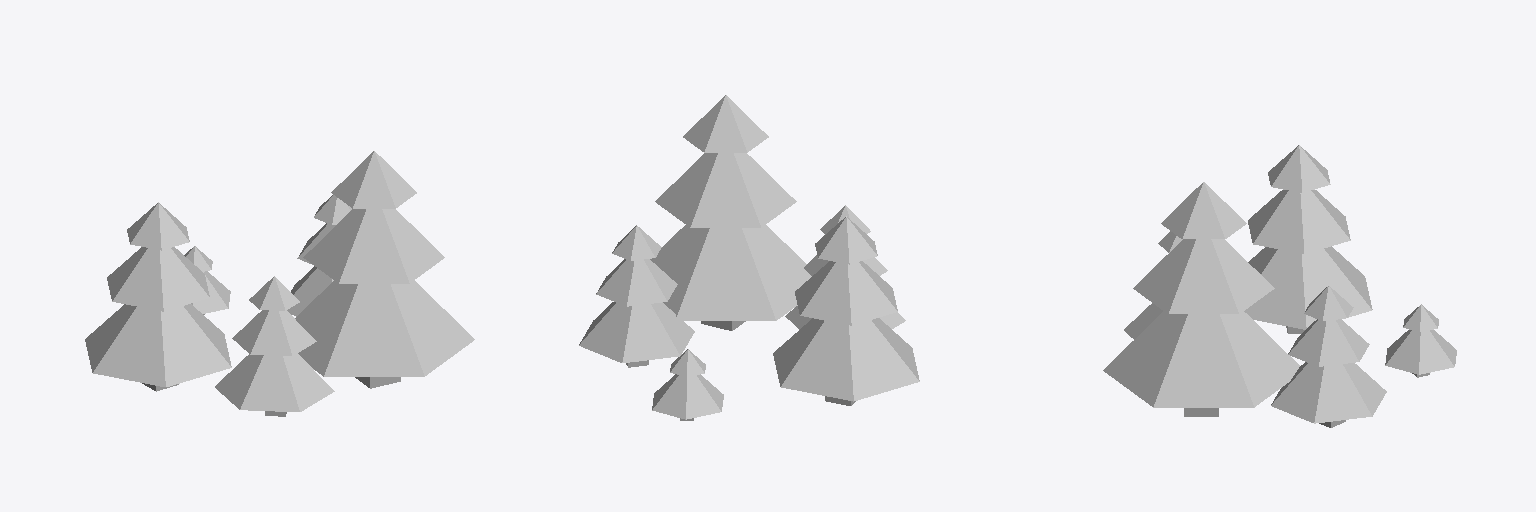
Rendered from Forest_2.obj.
3 views of the same model, side by side, from view 1: azimuth 30°, elevation 25°; view 2: azimuth 150°, elevation 25°; view 3: azimuth 270°, elevation 25° (orthographic).
Visible parts, largest first — view 1: Wood.001; view 2: Wood.001; view 3: Wood.001.
Boxes of the visible parts, box(x1,y1,x2,y2) form: Wood.001: box(85, 151, 474, 416); Wood.001: box(579, 95, 919, 420); Wood.001: box(1103, 145, 1456, 427).
Size of the model in its own units: 1.03 by 0.7076 by 0.9989.